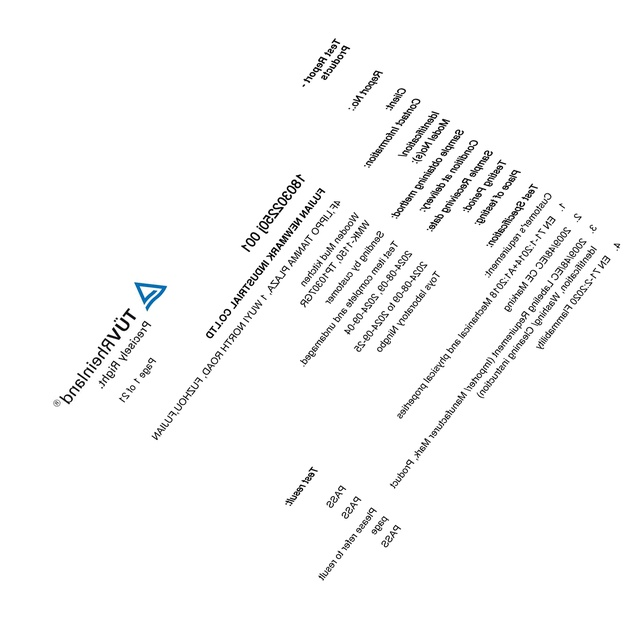tuv_rheinland: (51, 279, 169, 412)
